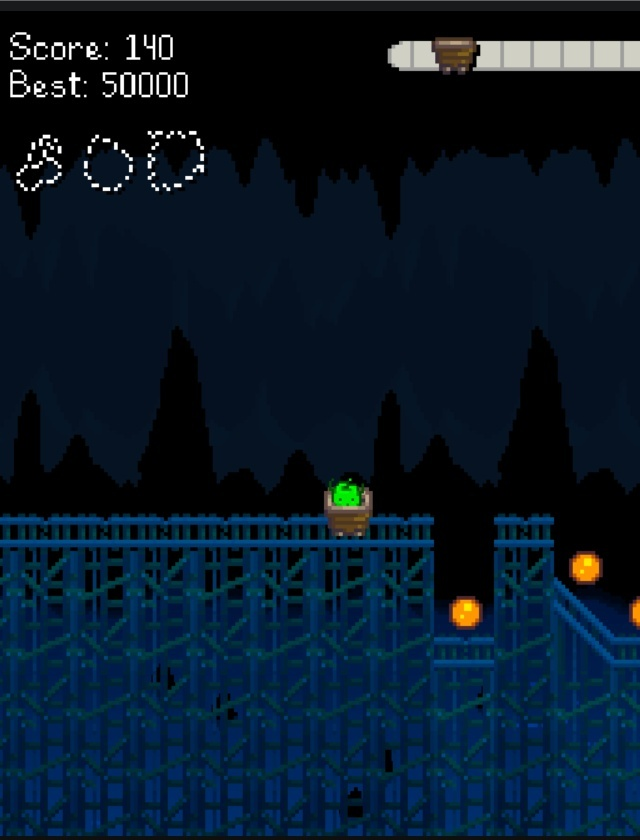coins: (570, 552, 602, 584), (449, 597, 481, 628)
tracks: (1, 500, 315, 554), (553, 580, 639, 670), (494, 506, 564, 551), (381, 503, 436, 554), (425, 632, 497, 670)
